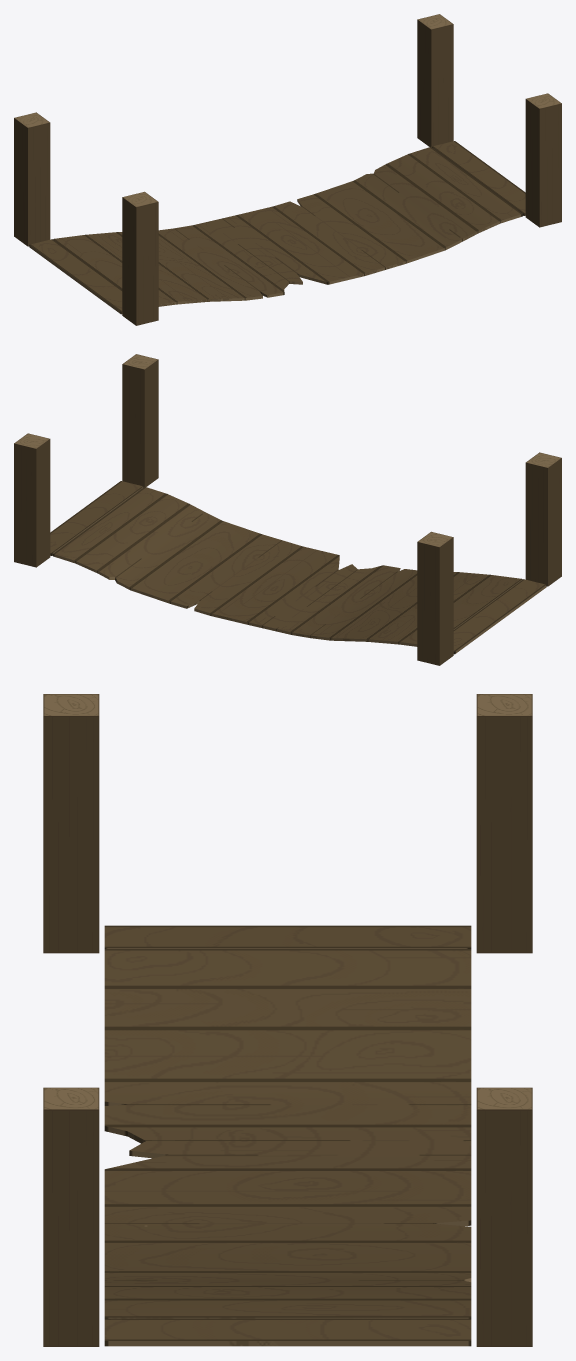
File: bridge.fbx
3 renders of one model, top to bottom at view 1: azimuth 30°, elevation 25°; view 2: azimuth 150°, elevation 25°; view 3: azimuth 270°, elevation 25°, orthographic. The views are drawn at different scales.
Parts seen in each view (by area): view 1: pCube8, pCube1, pCube6, pCube2, pCube5; view 2: pCube8, pCube2, pCube5, pCube1, pCube6; view 3: pCube8, pCube1, pCube2, pCube5, pCube6.
Boxes of the visible parts, box(x1,y1,x2,y2) form: pCube8: box(29, 141, 525, 314); pCube1: box(122, 191, 158, 325); pCube6: box(525, 93, 561, 227); pCube2: box(14, 112, 50, 246); pCube5: box(417, 14, 453, 146); pCube8: box(50, 481, 546, 654); pCube2: box(417, 531, 453, 665); pCube5: box(14, 433, 50, 567); pCube1: box(525, 452, 561, 586); pCube6: box(122, 354, 158, 486); pCube8: box(104, 925, 471, 1346); pCube1: box(43, 694, 99, 953); pCube2: box(476, 694, 532, 953); pCube5: box(476, 1087, 532, 1346); pCube6: box(43, 1087, 99, 1346).
Bounding box in the file's own units: 5.32 × 1.66 × 2.65.
Materials: 2 (2 with a texture image).
